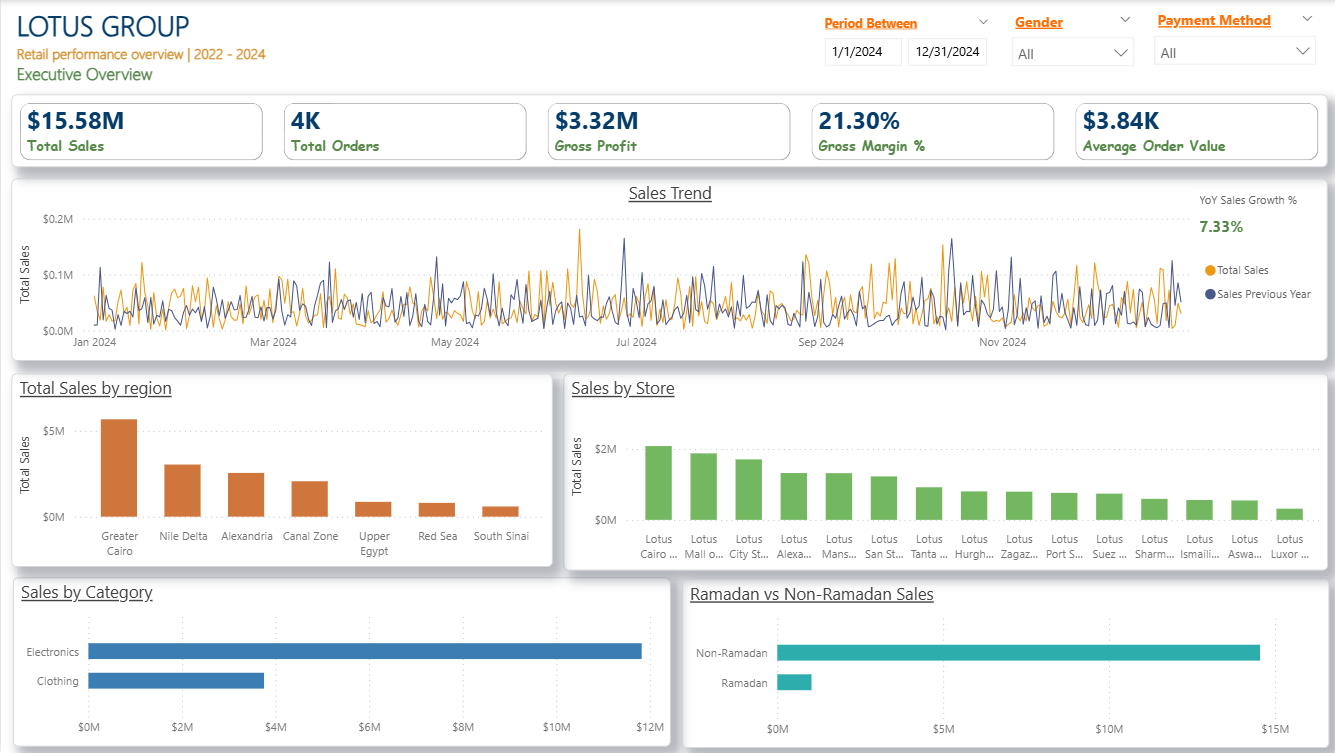

This screenshot's page, from the dashboard's own definition file:
{"tool":"powerbi","page":{"name":"Executve Overview","canvas":[1280,720],"ordinal":0},"visuals":[{"type":"textbox","box":[10.6,0,306.6,91.6],"z":0},{"type":"cardVisual","fields":{"Data":["_Measures.Total Sales","_Measures.Total Orders","_Measures.Gross Profit","_Measures.Gross Margin %","_Measures.Average Order Value"]},"box":[10.6,90.3,1257,69],"z":1000},{"type":"lineChart","title":"Sales Trend","fields":{"Y":["_Measures.Total Sales","_Measures.Sales Previous Year"],"Category":["dim_date.full_date"]},"box":[10.6,171.1,1256.8,174.1],"z":2000},{"type":"slicer","fields":{"Values":["dim_date.full_date"]},"box":[774.1,8.2,182.4,63.5],"z":3000},{"type":"cardVisual","fields":{"Data":["_Measures.YoY Sales Growth %"]},"box":[1132.1,176.8,131.8,57.4],"z":4000},{"type":"clusteredBarChart","title":"Sales by Category","fields":{"Category":["dim_products.category"],"Y":["_Measures.Total Sales"]},"box":[10.9,552.1,628.1,161.3],"z":5000},{"type":"clusteredColumnChart","title":"Sales by Store","fields":{"Category":["dim_stores.store_name"],"Y":["_Measures.Total Sales"]},"box":[537.5,357.4,729.8,187.8],"z":6000},{"type":"clusteredColumnChart","fields":{"Category":["dim_stores.region"],"Y":["_Measures.Total Sales"]},"box":[10.6,357.4,516.3,184.7],"z":7000},{"type":"clusteredBarChart","title":"Ramadan vs Non-Ramadan Sales","fields":{"Category":["dim_date.Period Type"],"Y":["_Measures.Total Sales"]},"box":[650.2,552.2,617.9,161.4],"z":8000},{"type":"slicer","fields":{"Values":["dim_customers.gender"]},"box":[955.3,6.2,136.5,63.6],"z":9000},{"type":"slicer","fields":{"Values":["fact_orders.payment_method"]},"box":[1091.8,4.7,174.1,60],"z":10000}]}

Visuals, with their boxes in screenshot pixels (x1, y1, x2, y2), scaled from the page's 1280x720 canvas onto the 1335x753 screenshot:
textbox: (11,0,331,96)
cardVisual - _Measures.Total Sales x _Measures.Total Orders: (11,94,1322,167)
"Sales Trend" lineChart: (11,179,1322,361)
slicer - dim_date.full_date: (807,9,998,75)
cardVisual - _Measures.YoY Sales Growth %: (1181,185,1318,245)
"Sales by Category" clusteredBarChart: (11,577,666,746)
"Sales by Store" clusteredColumnChart: (561,374,1322,570)
clusteredColumnChart - dim_stores.region x _Measures.Total Sales: (11,374,550,567)
"Ramadan vs Non-Ramadan Sales" clusteredBarChart: (678,578,1323,746)
slicer - dim_customers.gender: (996,6,1139,73)
slicer - fact_orders.payment_method: (1139,5,1320,68)
